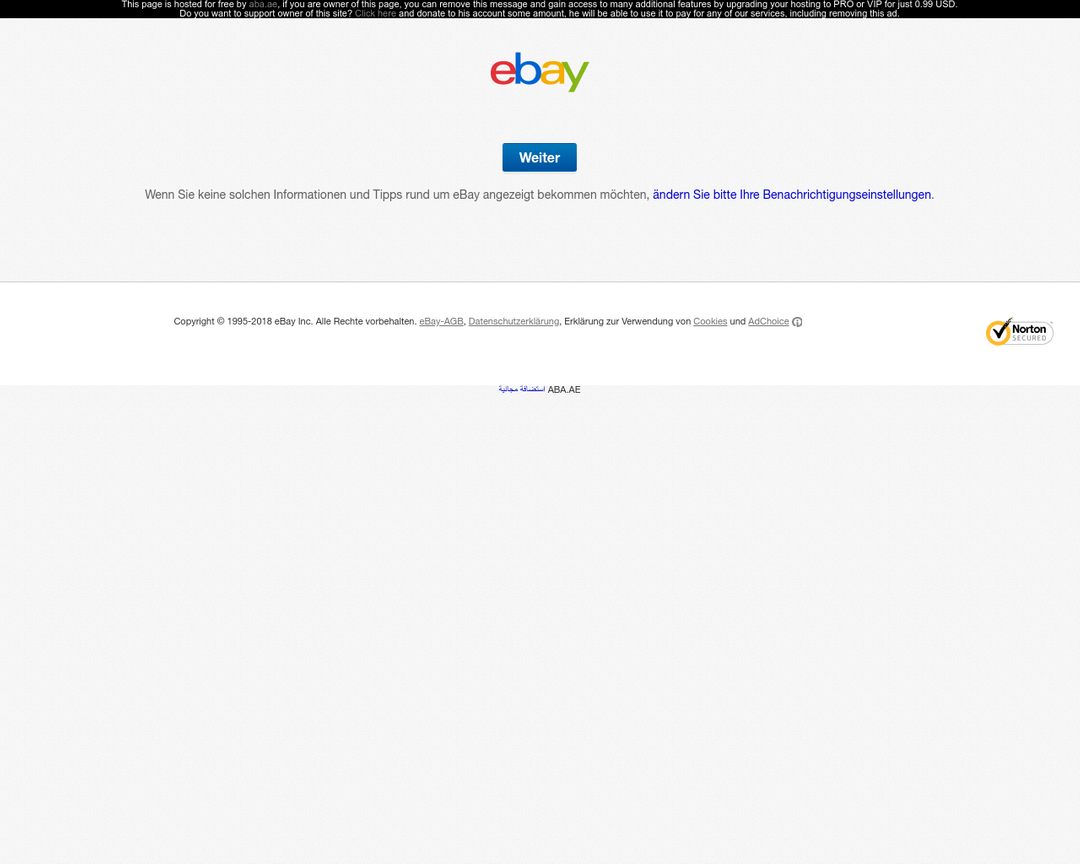Ebay: (488, 47, 592, 95)
